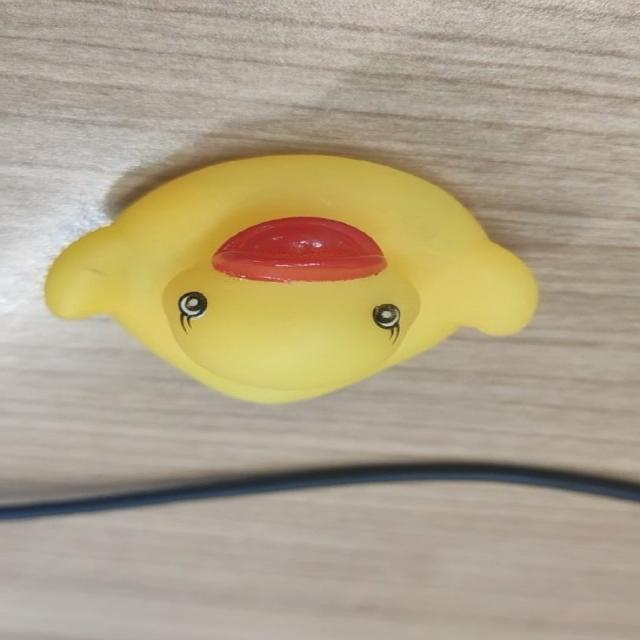rubber-duck: (45, 154, 536, 401)
